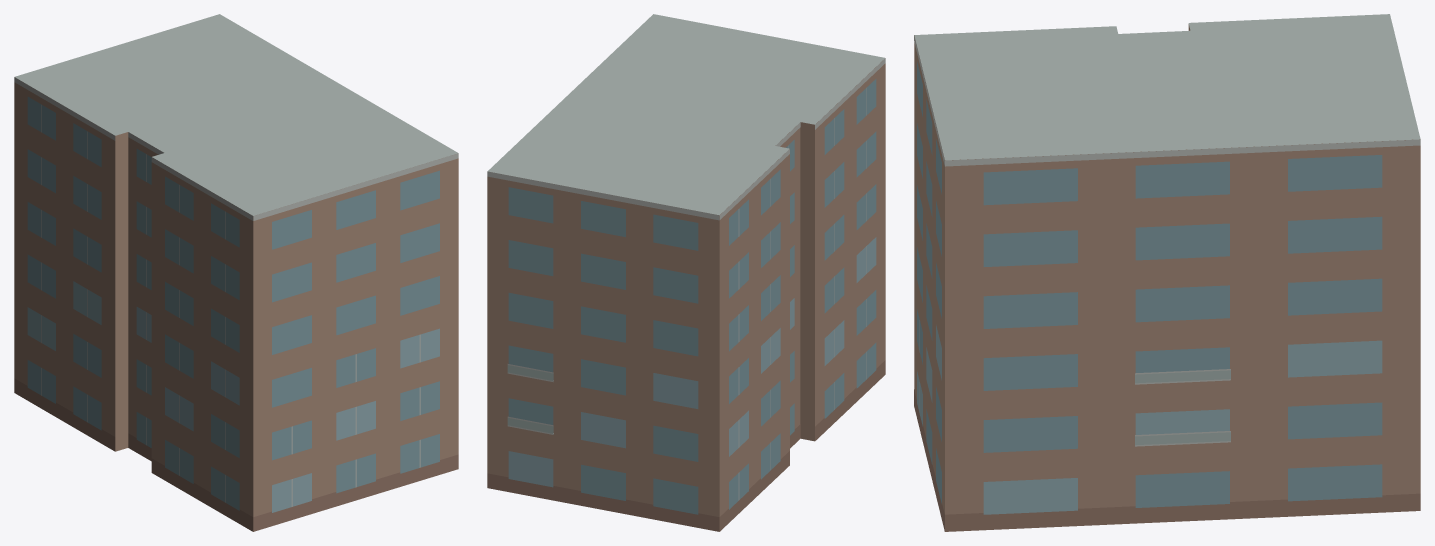
File: survey-upis-32670646.glb
3 renders of one model, left to right at view 1: azimuth 30°, elevation 25°; view 2: azimuth 150°, elevation 25°; view 3: azimuth 270°, elevation 25°, orthographic. The views are drawn at different scales.
Visible parts, largest first — view 1: survey-upis-32670646.tmp; view 2: survey-upis-32670646.tmp; view 3: survey-upis-32670646.tmp.
Part boxes in pixels (x1=…): survey-upis-32670646.tmp: x1=14, y1=14, x2=458, y2=531; survey-upis-32670646.tmp: x1=487, y1=14, x2=885, y2=531; survey-upis-32670646.tmp: x1=914, y1=14, x2=1420, y2=531.
Size of the model in its own units: 12.61 by 14.9 by 18.42.
